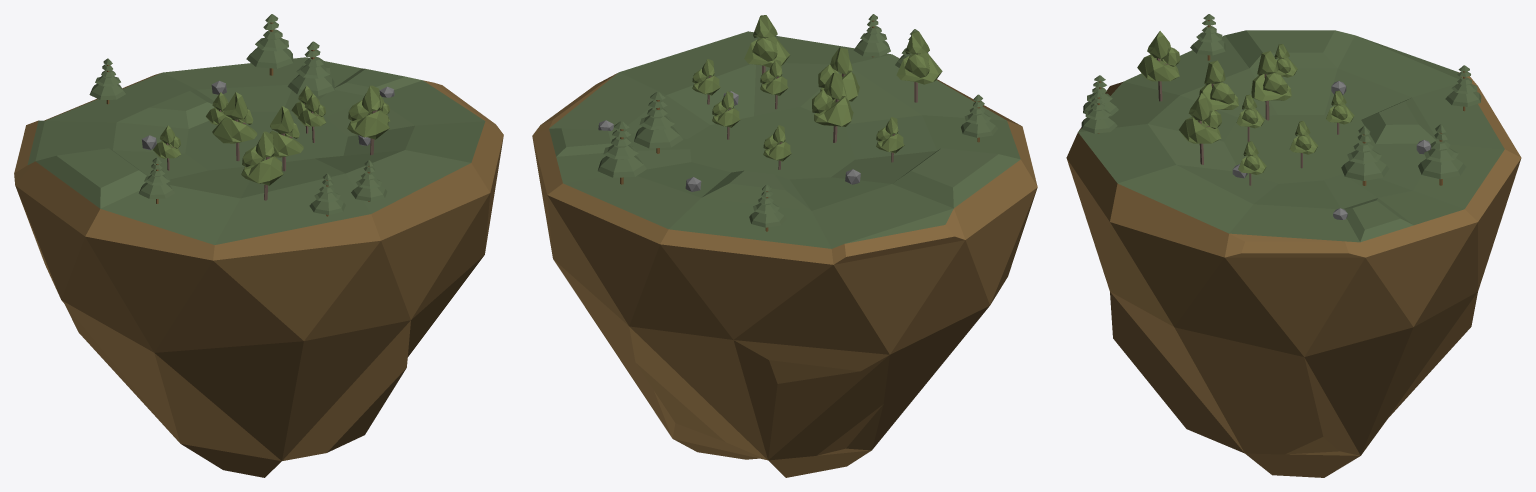
File: forest.glb
3 views of the same model, side by side, from view 1: azimuth 30°, elevation 25°; view 2: azimuth 150°, elevation 25°; view 3: azimuth 270°, elevation 25° (orthographic). The views are drawn at different scales.
Visible parts, largest first — view 1: planet, Tree Type4 01 Model.010, Tree Type4 01 Model.009, Cone.006, Tree Type4 01 Model.006, Cone.005, Tree Type4 01 Model.008, Cone.003, Cone.002, Cone.004, Cone.001, Tree Type4 01 Model.005 (+1 smaller); view 2: planet, Tree Type4 01 Model.006, Cone.006, Cone.005, Tree Type4 01 Model.009, Tree Type4 01 Model.010, Tree Type4 01 Model.008, Cone.002, Cone.003, Cone.001, Tree Type4 01 Model.005, Tree Type4 01 Model (+3 smaller); view 3: planet, Tree Type4 01 Model.009, Tree Type4 01 Model.010, Cone.006, Cone.005, Tree Type4 01 Model.006, Tree Type4 01 Model.008, Cone.001, Cone.002, Cone.003, Tree Type4 01 Model.005, Tree Type4 01 Model (+4 smaller).
Boxes of the visible parts, x1,y1,x2,y2 form: planet: [14, 57, 503, 477]; Tree Type4 01 Model.010: [347, 85, 389, 155]; Tree Type4 01 Model.009: [241, 131, 283, 200]; Cone.006: [246, 14, 293, 75]; Tree Type4 01 Model.006: [212, 92, 257, 161]; Cone.005: [287, 41, 334, 96]; Tree Type4 01 Model.008: [270, 106, 303, 171]; Cone.003: [89, 58, 125, 104]; Cone.002: [138, 157, 174, 203]; Cone.004: [309, 173, 345, 216]; Cone.001: [351, 160, 387, 201]; Tree Type4 01 Model.005: [298, 94, 326, 142]; planet: [532, 31, 1037, 477]; Tree Type4 01 Model.006: [812, 73, 853, 142]; Cone.006: [598, 121, 646, 184]; Cone.005: [634, 91, 683, 153]; Tree Type4 01 Model.009: [896, 31, 942, 102]; Tree Type4 01 Model.010: [744, 15, 789, 83]; Tree Type4 01 Model.008: [818, 47, 859, 101]; Cone.002: [961, 94, 997, 142]; Cone.003: [749, 184, 786, 231]; Cone.001: [853, 14, 890, 57]; Tree Type4 01 Model.005: [760, 59, 788, 109]; Tree Type4 01 Model: [712, 91, 740, 139]; planet: [1066, 30, 1521, 477]; Tree Type4 01 Model.009: [1137, 31, 1180, 101]; Tree Type4 01 Model.010: [1179, 93, 1221, 164]; Cone.006: [1418, 124, 1465, 185]; Cone.005: [1341, 126, 1389, 185]; Tree Type4 01 Model.006: [1251, 51, 1291, 120]; Tree Type4 01 Model.008: [1199, 60, 1238, 110]; Cone.001: [1081, 91, 1117, 133]; Cone.002: [1190, 14, 1225, 60]; Cone.003: [1445, 65, 1481, 111]; Tree Type4 01 Model.005: [1236, 94, 1264, 141]; Tree Type4 01 Model: [1290, 121, 1317, 168].
Bounding box in the file's own units: 2.8 × 2.49 × 2.62.
